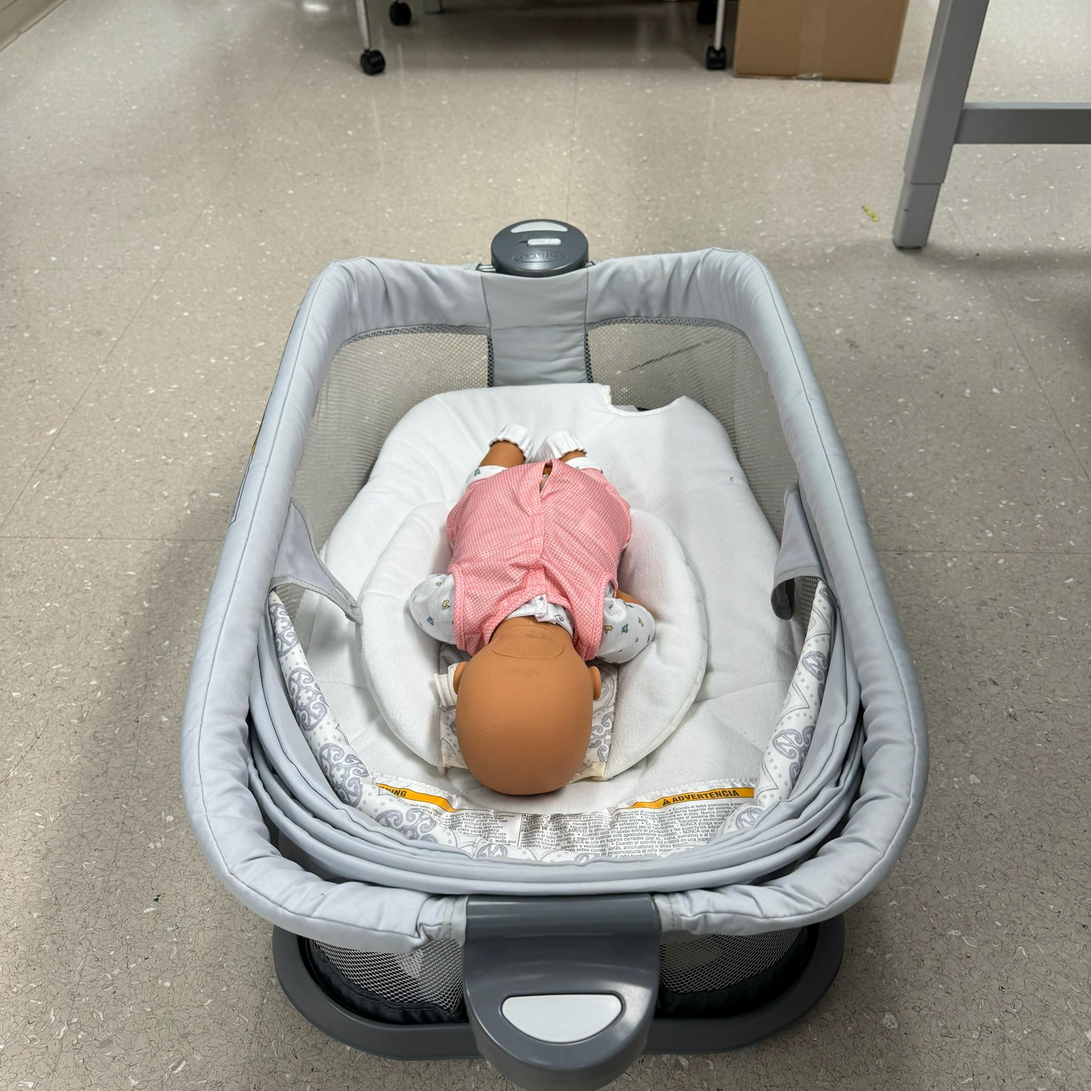baby: (402, 418, 677, 806)
